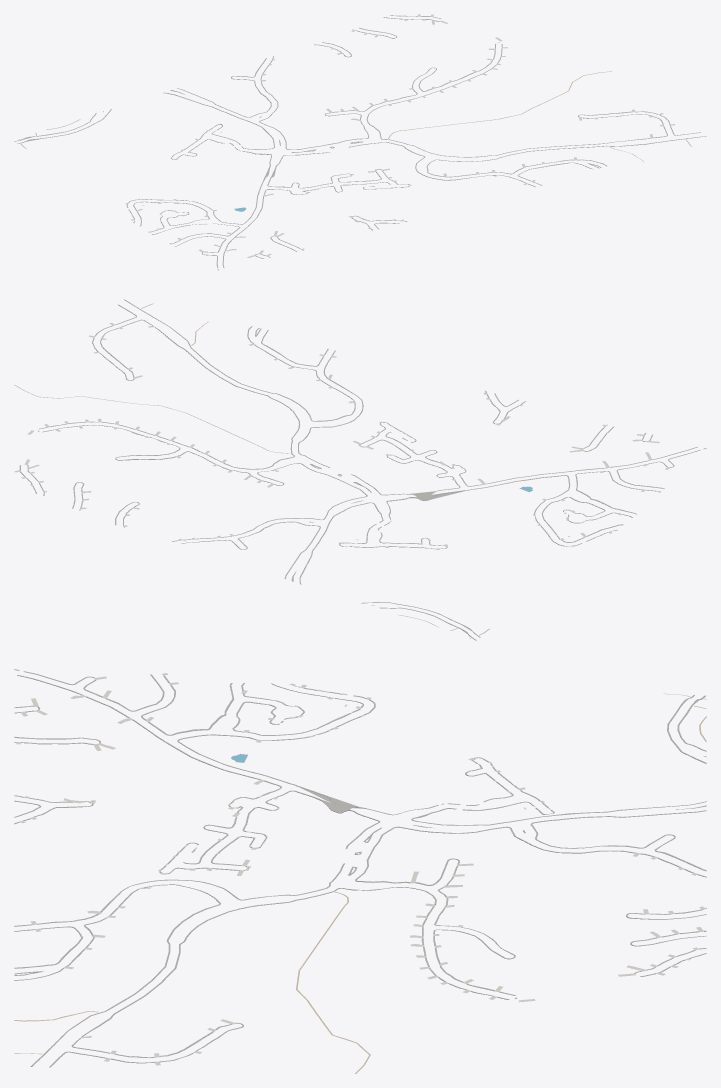
File: ground_r1_c1.glb
The picture shows the model from 3 angles, top to bottom: view 1: azimuth 30°, elevation 25°; view 2: azimuth 150°, elevation 25°; view 3: azimuth 270°, elevation 25°; orthographic projection. The views are drawn at different scales.
Visible parts, largest first — view 1: sidewalks, driveways; view 2: sidewalks, driveways; view 3: sidewalks, driveways, paths.
Boxes of the visible parts, x1,y1,x2,y2 form: sidewalks: (14,15,706,270); driveways: (125,14,674,257); sidewalks: (19,299,706,640); driveways: (14,323,669,549); sidewalks: (14,669,706,1067); driveways: (16,673,705,1065); paths: (14,693,706,1073).
Bounding box in the file's own units: 1129 × 79.64 × 788.
